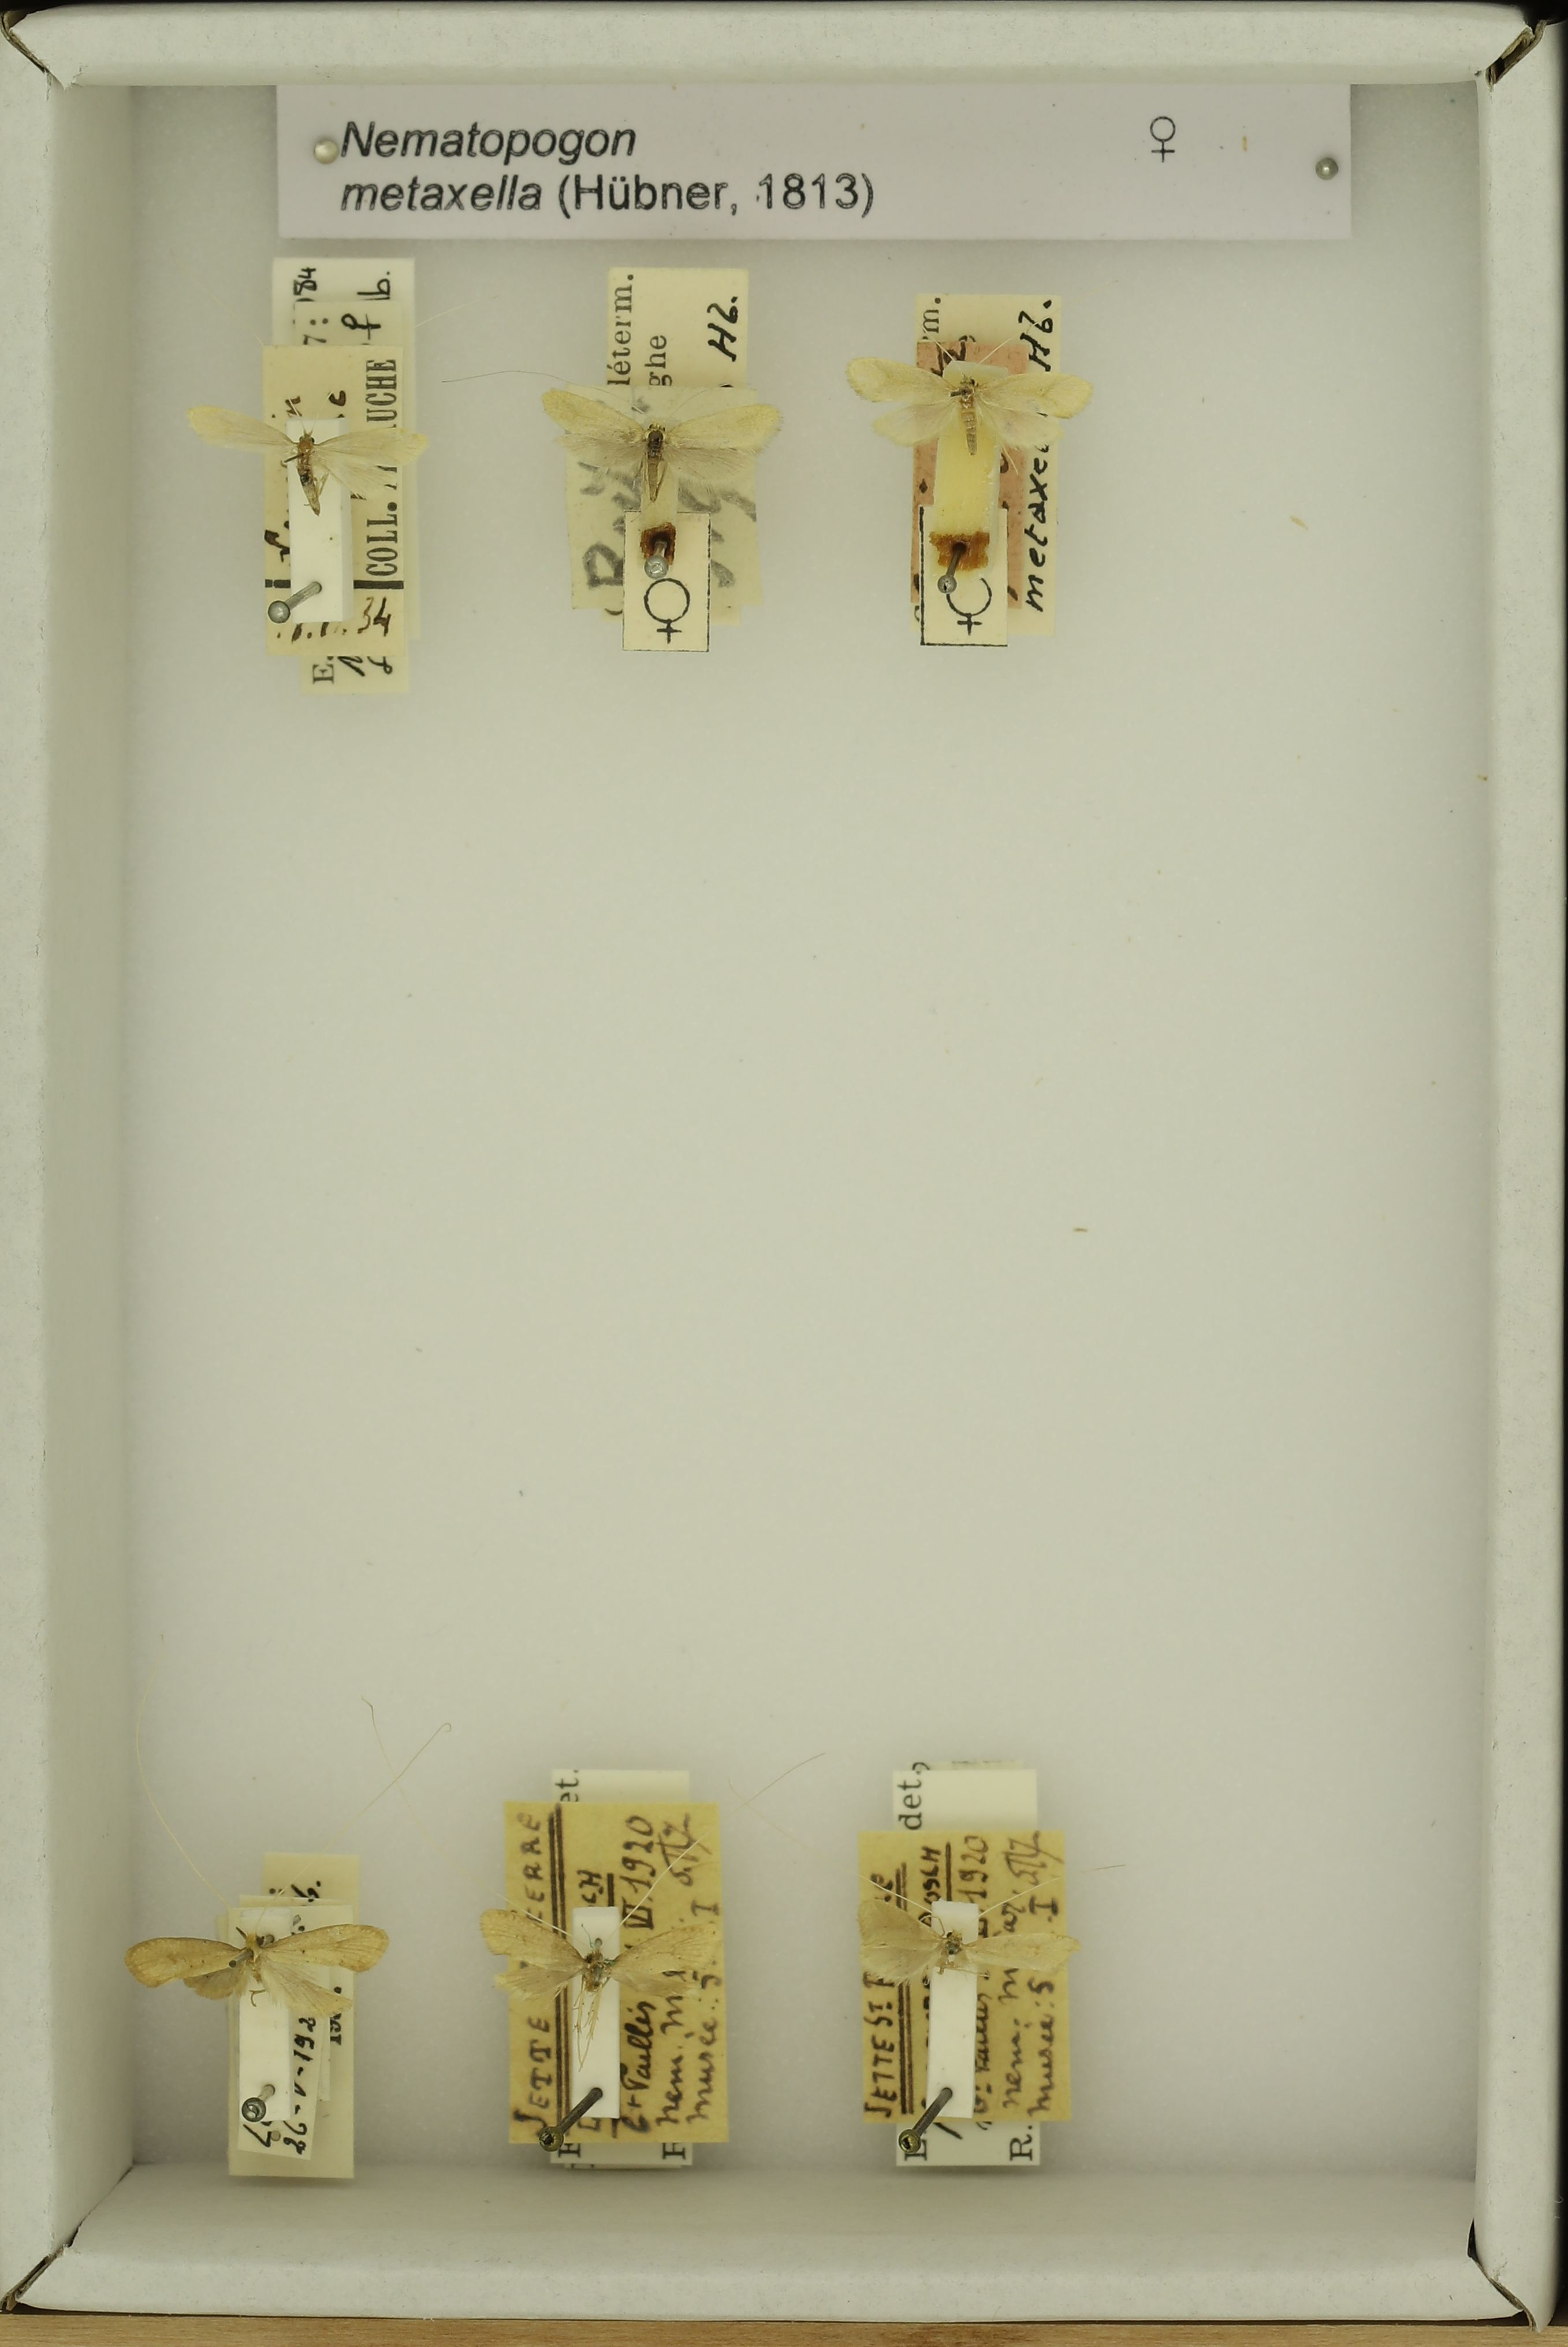insect: (465, 1897, 728, 2074), (831, 334, 1101, 464), (112, 1908, 392, 2028), (840, 1880, 1090, 2009), (530, 382, 791, 506), (178, 394, 427, 520)
